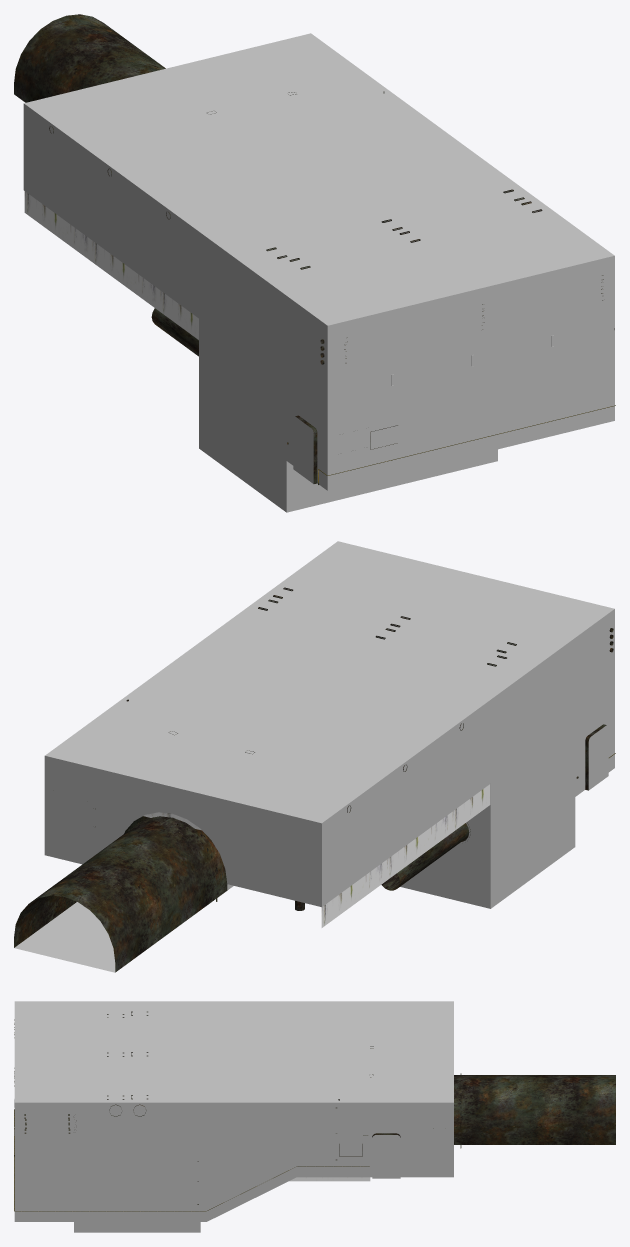
The model's file is sewer.fbx.
3 views of the same model, one above another, from view 1: azimuth 30°, elevation 25°; view 2: azimuth 150°, elevation 25°; view 3: azimuth 270°, elevation 25° (orthographic). The views are drawn at different scales.
Visible parts, largest first — view 1: concreteWalls, ironThree, leaker, entranceDoor, ironTwo; view 2: concreteWalls, ironThree, leaker, entranceDoor, ironTwo; view 3: concreteWalls, ironThree, exitDoor, largeElectricalConduit, leaker.
Part boxes in pixels (x1,y1,x2,y2): concreteWalls: (23,33,614,512); ironThree: (14,14,198,356); leaker: (24,191,198,339); entranceDoor: (293,416,313,483); ironTwo: (266,189,603,483); concreteWalls: (14,541,614,972); ironThree: (14,723,470,972); leaker: (143,784,490,927); entranceDoor: (588,725,608,790); ironTwo: (258,587,613,790); concreteWalls: (14,1001,453,1232); ironThree: (372,1073,615,1148); exitDoor: (372,1135,400,1178); largeElectricalConduit: (14,1109,369,1211); leaker: (289,1177,370,1181).
Size of the model in its own units: 16.76 by 11.85 by 40.98.
